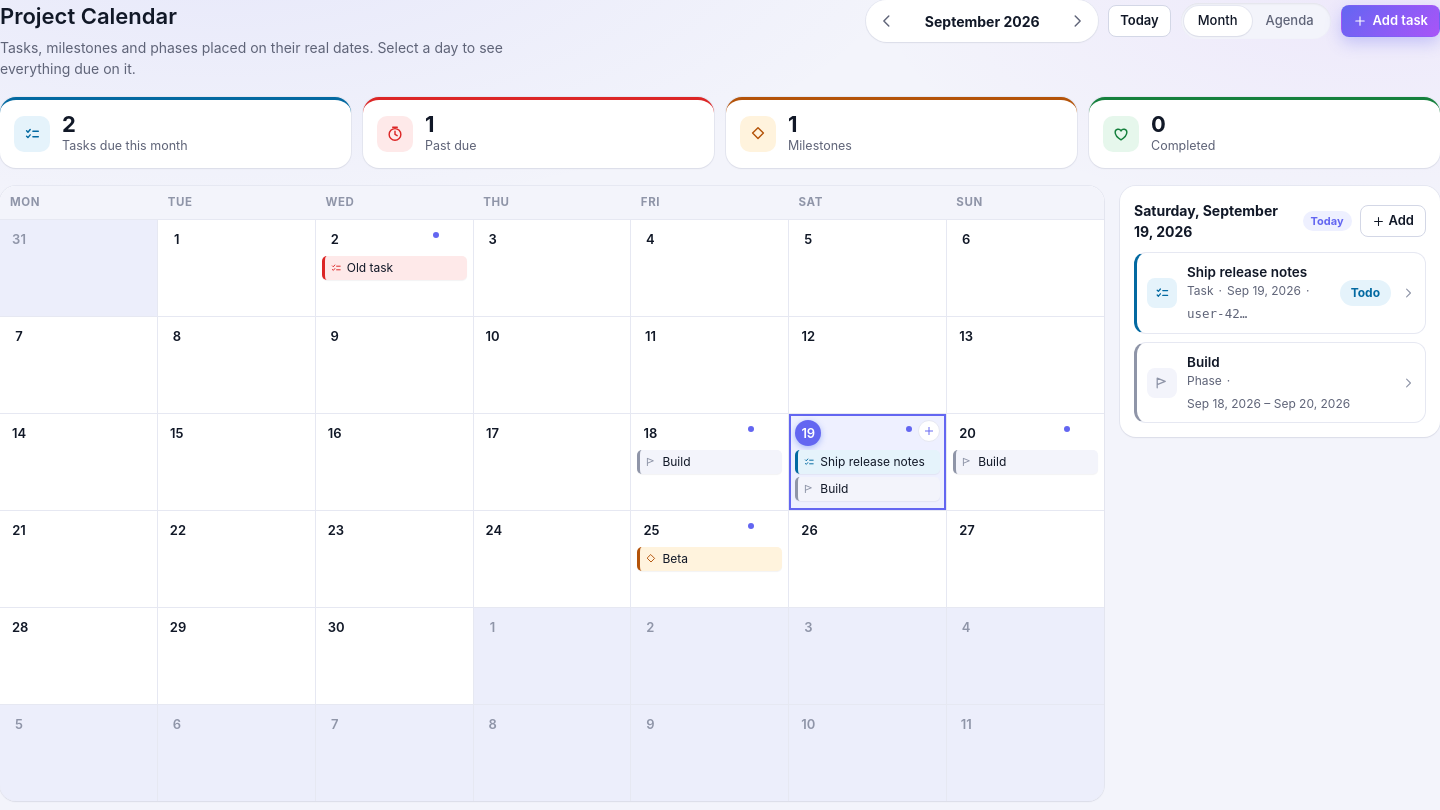
it: CalendarTab › offers "Add task" pre-filled with the selected day only to editors
The width and height of the screenshot is (1440, 810).
Expected: the table is shown, [0, 186, 1104, 801]
Step 1. Click the button "Add task" → click(1390, 21), box [1341, 5, 1439, 37]
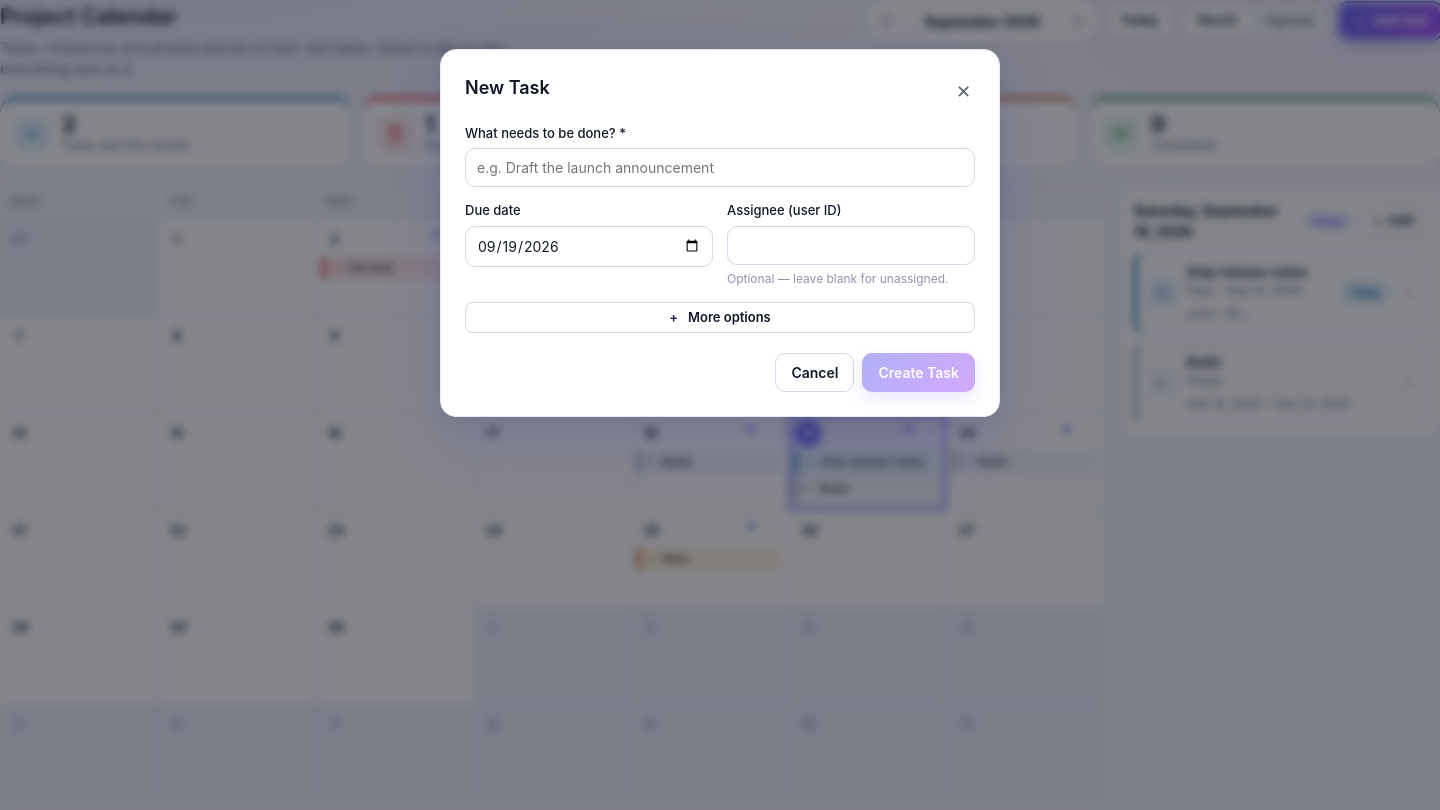
Now the date field labelled "Due date" holds "2026-09-19", box [465, 226, 713, 267]
